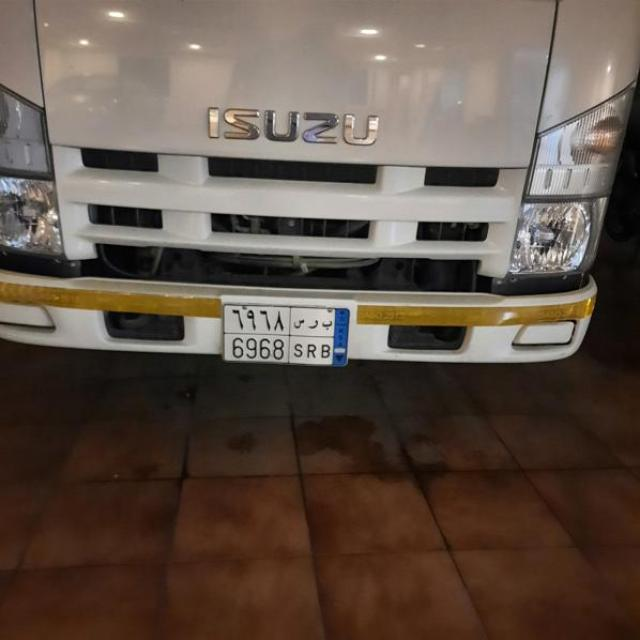license_plate: (222, 304, 350, 366)
